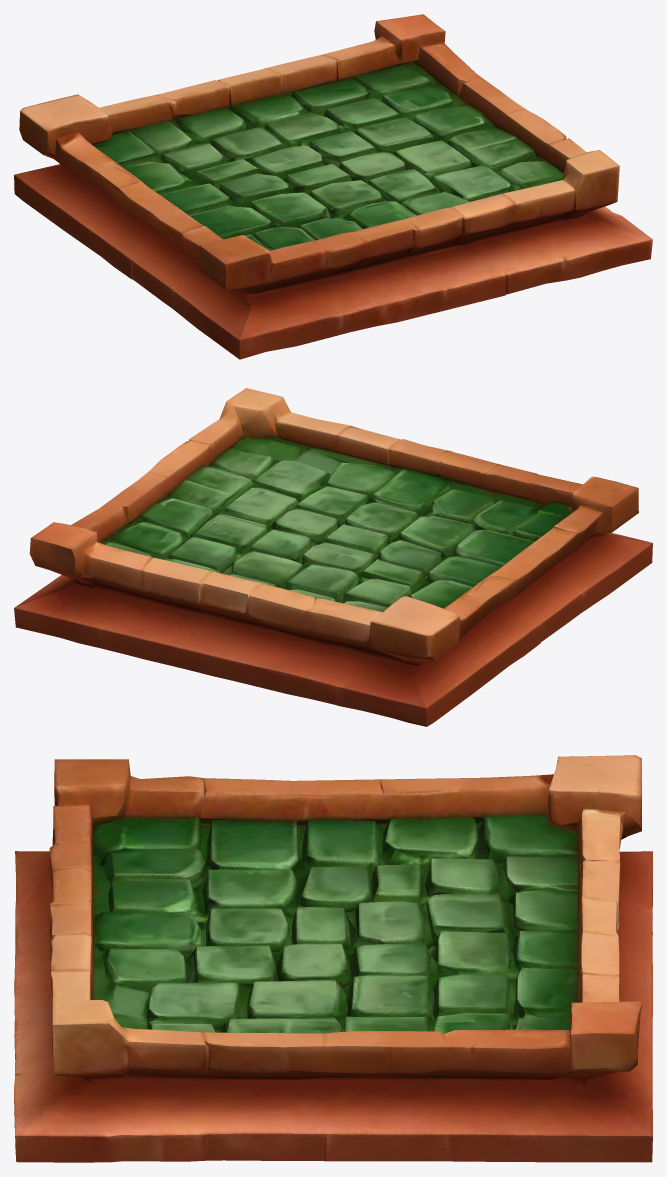
The model's file is m2TempleLedge.glb.
3 views of the same model, one above another, from view 1: azimuth 30°, elevation 25°; view 2: azimuth 150°, elevation 25°; view 3: azimuth 270°, elevation 25° (orthographic). The views are drawn at different scales.
Parts seen in each view (by area): view 1: model; view 2: model; view 3: model.
Boxes of the visible parts, bbox=[...] form: model: bbox=[14, 14, 652, 359]; model: bbox=[14, 388, 652, 726]; model: bbox=[14, 755, 652, 1162].
Size of the model in its own units: 1.9 by 0.4025 by 1.8.
1 material, 1 textured.
